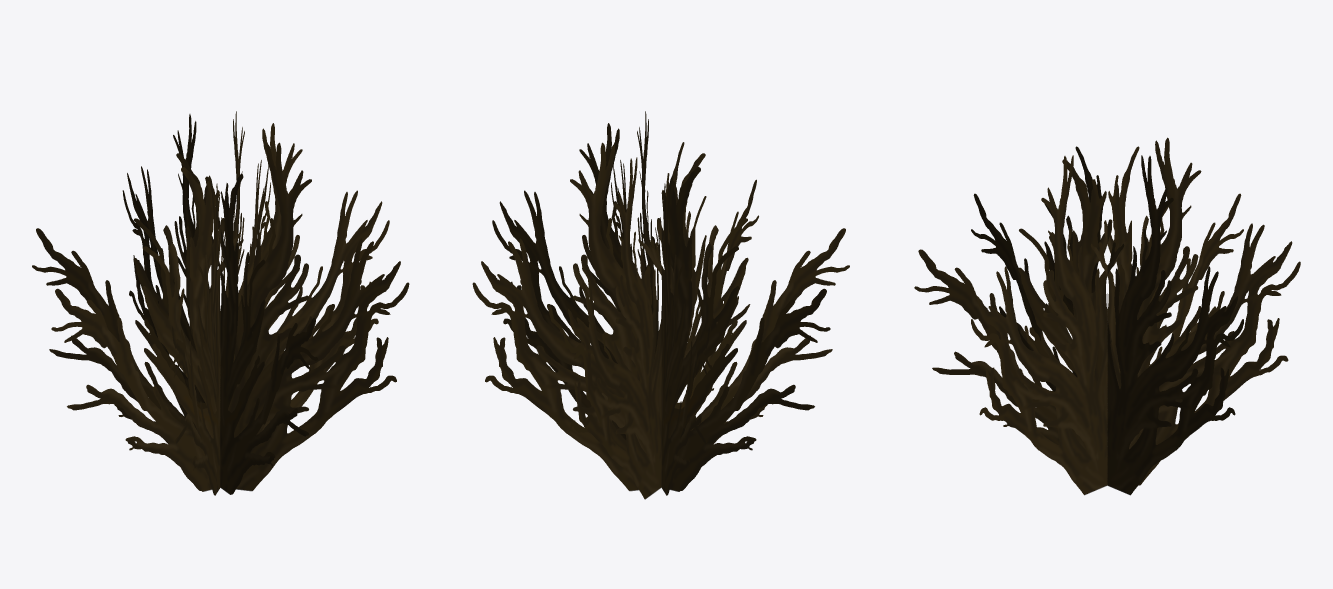
File: krzak1.FBX
3 renders of one model, left to right at view 1: azimuth 30°, elevation 25°; view 2: azimuth 150°, elevation 25°; view 3: azimuth 270°, elevation 25°, orthographic.
Visible parts, largest first — view 1: Plane011; view 2: Plane011; view 3: Plane011.
Boxes of the visible parts, x1,y1,x2,y2 form: Plane011: [32, 111, 409, 495]; Plane011: [472, 111, 849, 499]; Plane011: [914, 137, 1300, 495].
Size of the model in its own units: 2.15 by 2.15 by 2.15.
1 material, 1 textured.
